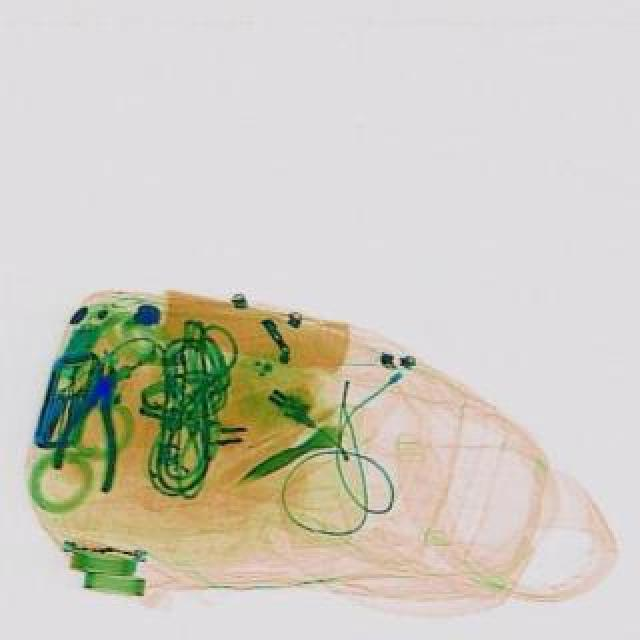wrench: (50, 356, 144, 492)
